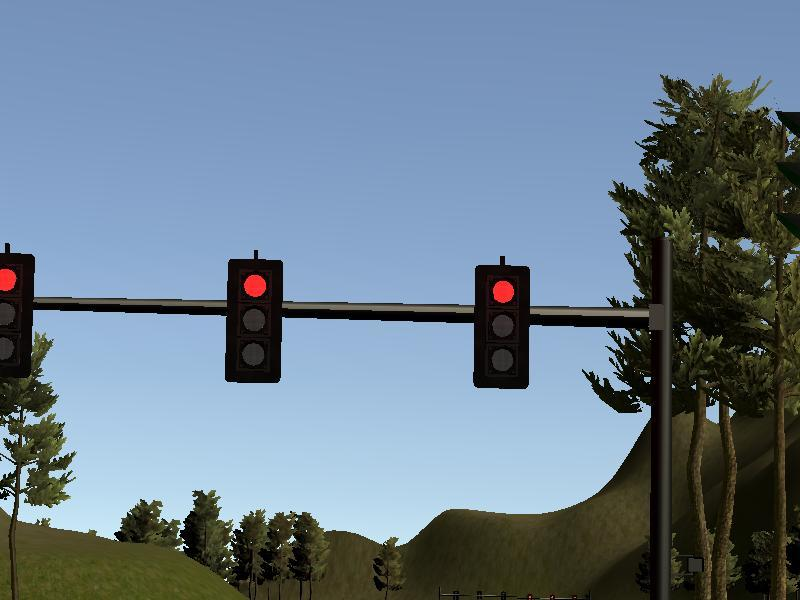Red: (226, 259, 282, 383), (473, 265, 529, 389), (1, 253, 34, 378)
